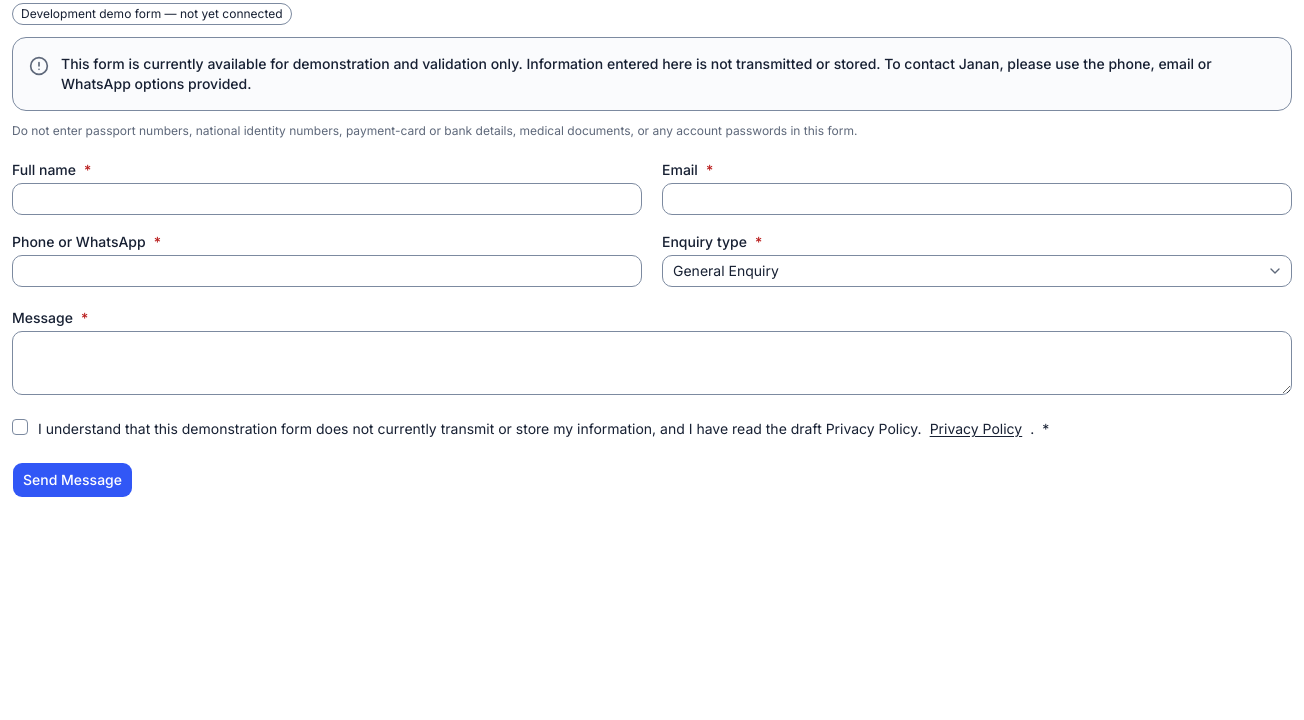
it: ContactForm › shows accessible inline errors and an error summary when submitted empty
Click the button "Send Message" at [72, 480], box [12,462,133,498]
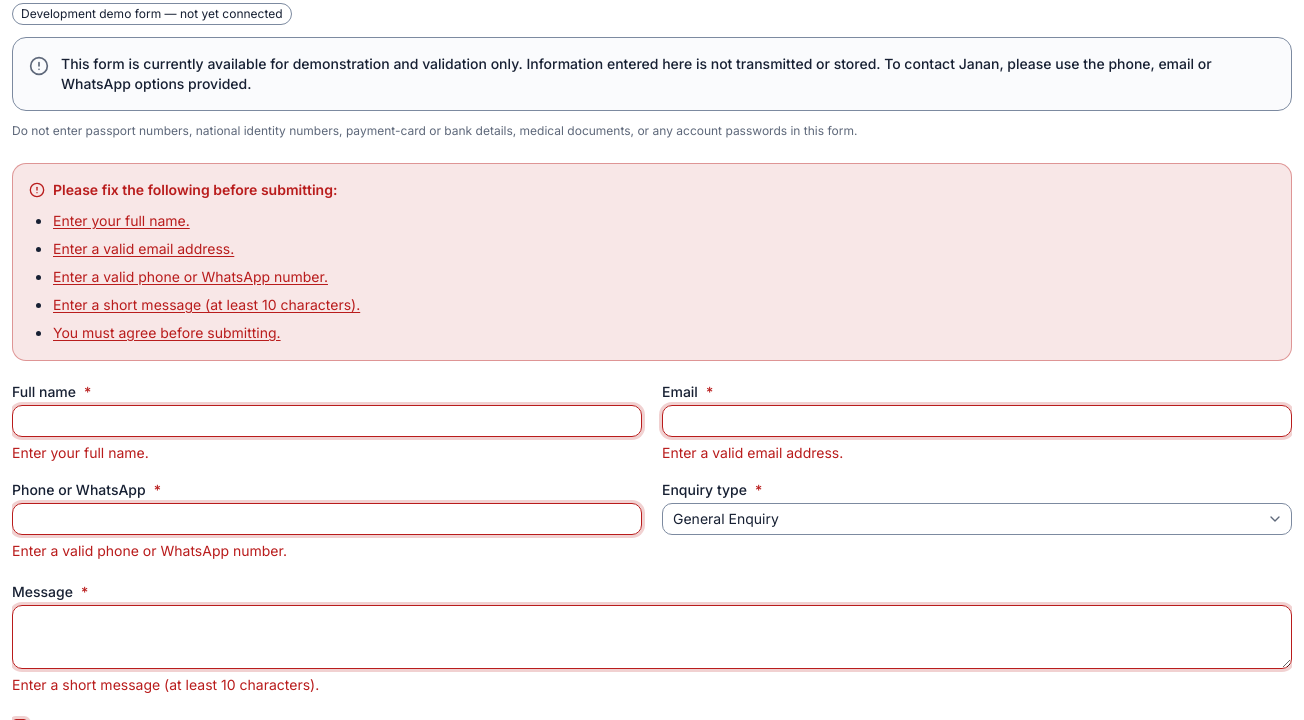
Now the message is shown, box [12,163,1292,361]
Now the link "Enter your full name." is shown, box [53,212,190,229]
